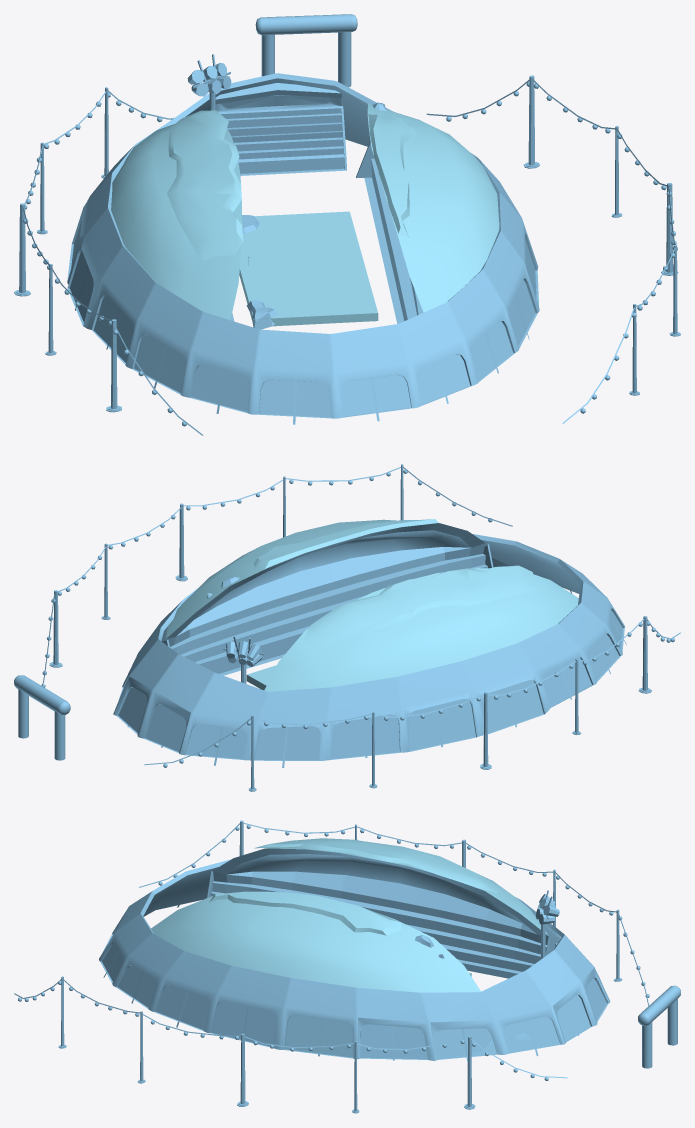
Rendered from Neighborhood_JamboreeSquareLocked.fbx.
3 views of the same model, one above another, from view 1: azimuth 30°, elevation 25°; view 2: azimuth 150°, elevation 25°; view 3: azimuth 270°, elevation 25° (orthographic). The views are drawn at different scales.
Visible parts, largest first — view 1: Neighborhood_JamboreeSquareLocked_Building_JamboreeRoof; view 2: Neighborhood_JamboreeSquareLocked_Building_JamboreeRoof; view 3: Neighborhood_JamboreeSquareLocked_Building_JamboreeRoof.
Boxes of the visible parts, left/top/right/bottom form: Neighborhood_JamboreeSquareLocked_Building_JamboreeRoof: left=14, top=14, right=680, bottom=435; Neighborhood_JamboreeSquareLocked_Building_JamboreeRoof: left=14, top=464, right=680, bottom=791; Neighborhood_JamboreeSquareLocked_Building_JamboreeRoof: left=14, top=820, right=680, bottom=1113.
Bounding box in the file's own units: 3369 × 798 × 4218.
